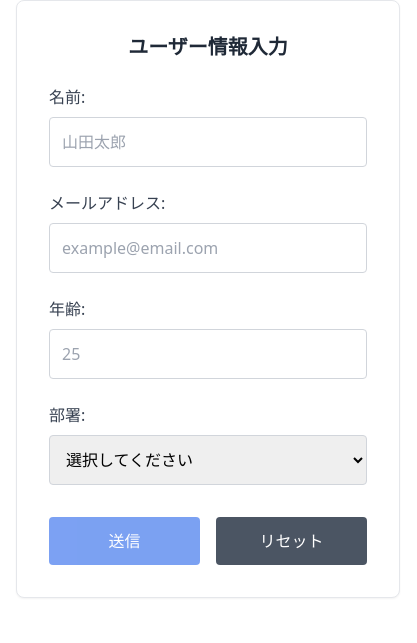
Test: UserForm コンポーネント › バリデーション › 名前のバリデーション › 名前が1文字の場合エラーメッセージが表示される
In the field with test id "name-input": (208, 142) [49,117,367,167], type "a"
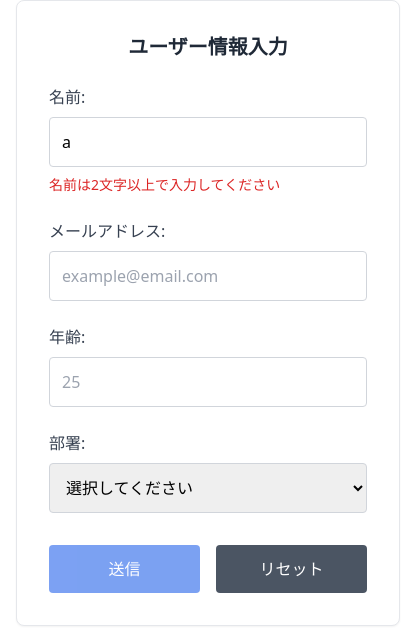
Check: the text with test id "name-error" reads "名前は2文字以上で入力してください", box [49,175,280,194]
